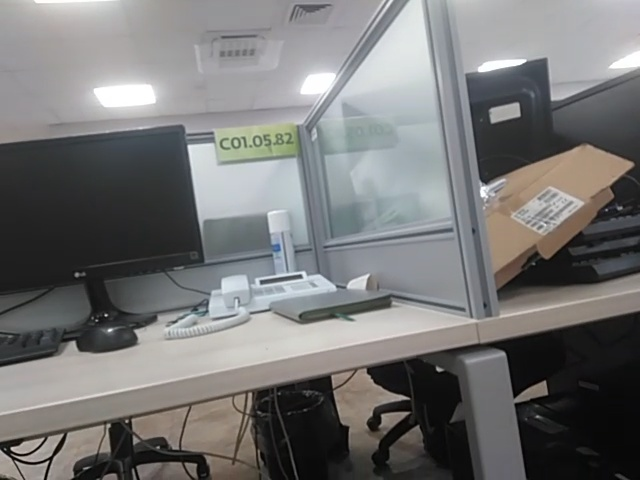table: (212, 122, 301, 164)
